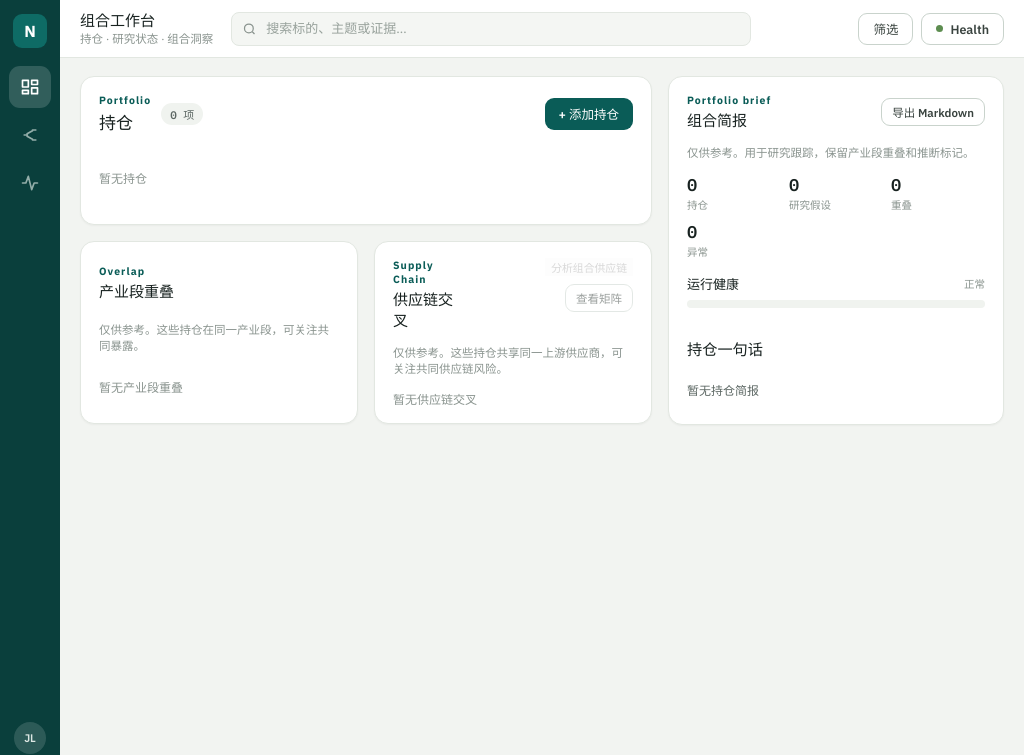
App workstation shell › renders the shell around the real portfolio view and switches workspaces
The image size is (1024, 755).
expect the button named "组合工作台" is shown: met, box [9, 66, 51, 108]
expect the text "暂无持仓" is shown: met, box [99, 171, 147, 186]
Click the button named "图谱探索".
click(30, 135)  # box [9, 114, 51, 156]
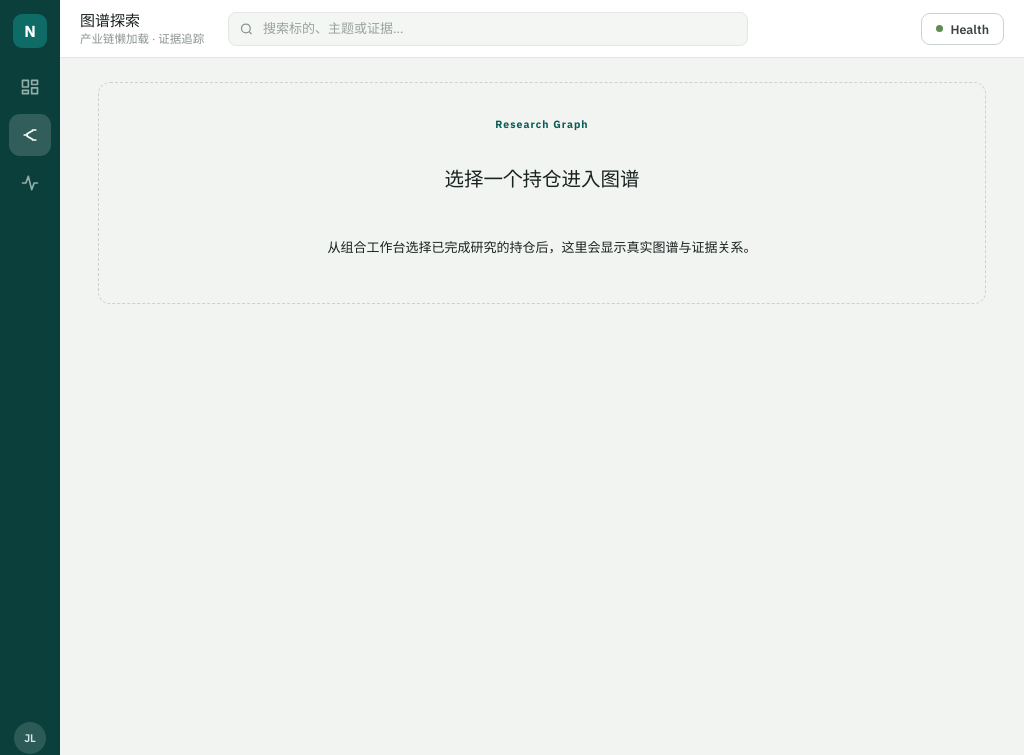
expect the element named "图谱探索视图" is shown: met, box [98, 82, 986, 304]
Click the button named "AgentOps".
click(30, 183)  # box [9, 162, 51, 204]
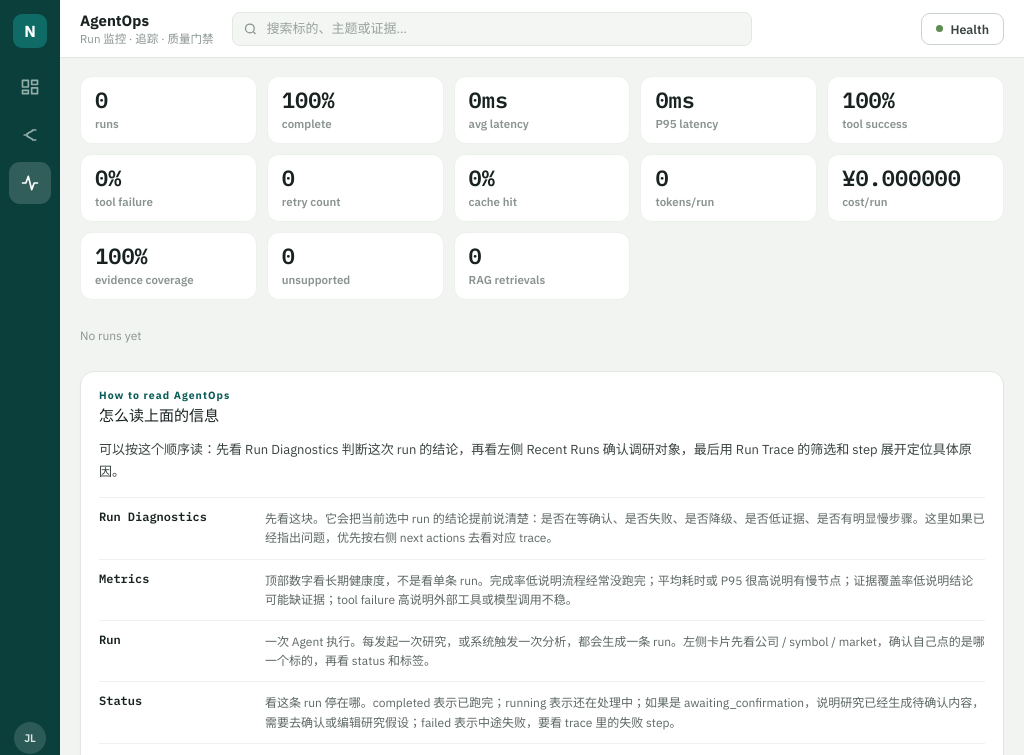
expect the text "No runs yet" is shown: met, box [80, 328, 142, 343]
